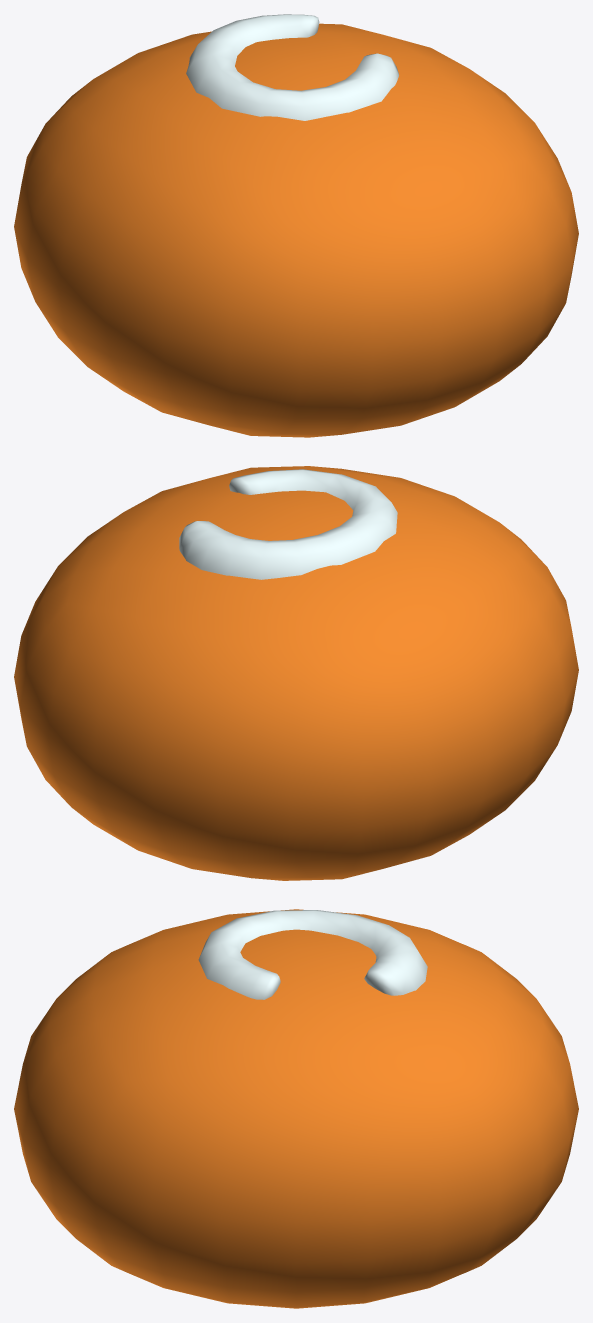
The model's file is Candy_D_02.fbx.
The picture shows the model from 3 angles, top to bottom: view 1: azimuth 30°, elevation 25°; view 2: azimuth 150°, elevation 25°; view 3: azimuth 270°, elevation 25°; orthographic projection. The views are drawn at different scales.
Parts seen in each view (by area): view 1: Candy_D_02_LOD0; view 2: Candy_D_02_LOD0; view 3: Candy_D_02_LOD0.
Part boxes in pixels (x1,y1,x2,y2): Candy_D_02_LOD0: [14, 14, 578, 437]; Candy_D_02_LOD0: [14, 466, 578, 880]; Candy_D_02_LOD0: [14, 909, 578, 1308].
Size of what is drawn, in the model's own units: 313 by 210 by 330.
